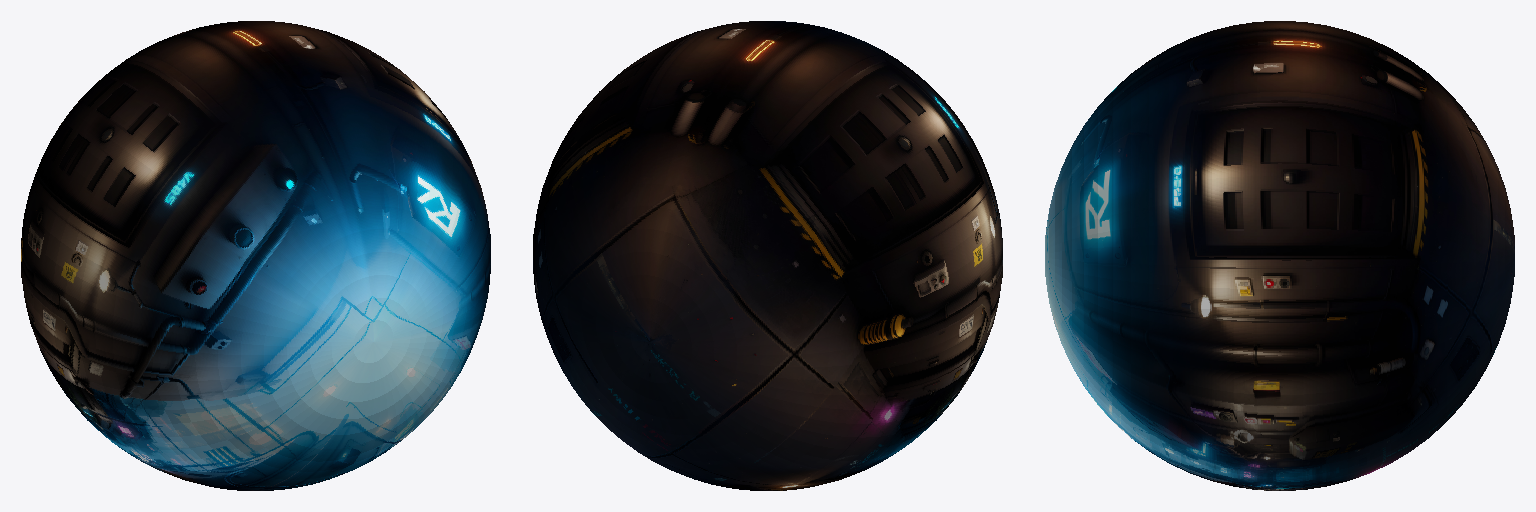
The picture shows the model from 3 angles: view 1: azimuth 30°, elevation 25°; view 2: azimuth 150°, elevation 25°; view 3: azimuth 270°, elevation 25°; orthographic projection.
Parts seen in each view (by area): view 1: Sphere; view 2: Sphere; view 3: Sphere.
Part boxes in pixels (left/top/right/bottom): Sphere: left=21, top=21, right=490, bottom=490; Sphere: left=533, top=21, right=1002, bottom=490; Sphere: left=1045, top=21, right=1514, bottom=490.
Bounding box in the file's own units: 2 × 2 × 2.
1 materials, 1 textured.